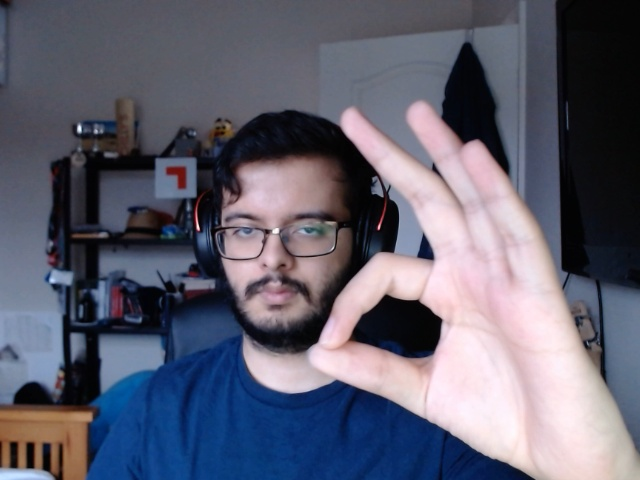Okay: (302, 99, 606, 470)
